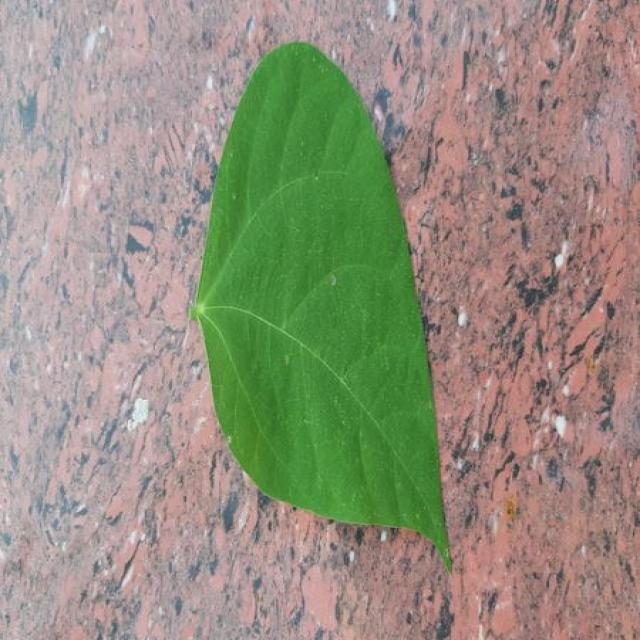beans: (192, 42, 450, 569)
